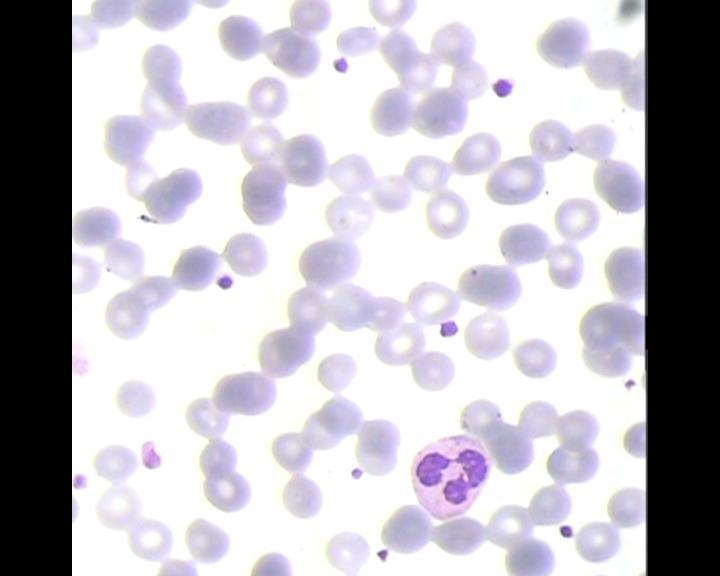neut: (405, 434, 488, 520)
